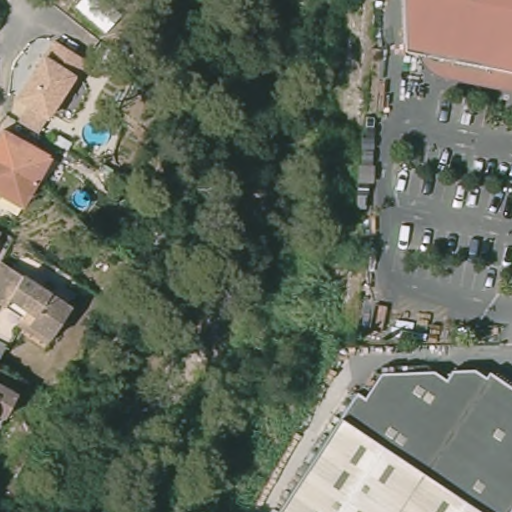pool: (79, 118, 118, 151), (65, 186, 96, 215)
